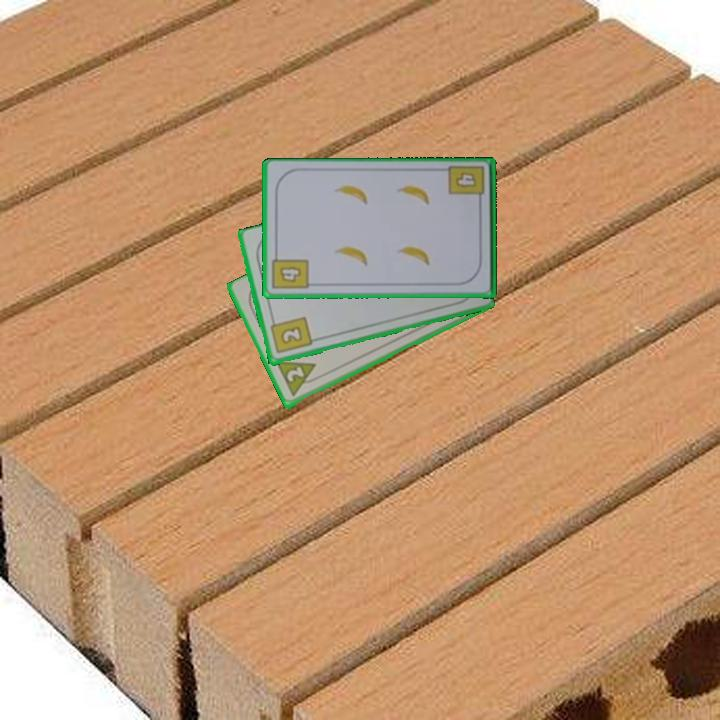2b: (266, 314, 314, 357)
2p: (273, 358, 324, 400)
4b: (446, 163, 488, 207), (269, 249, 311, 292)
